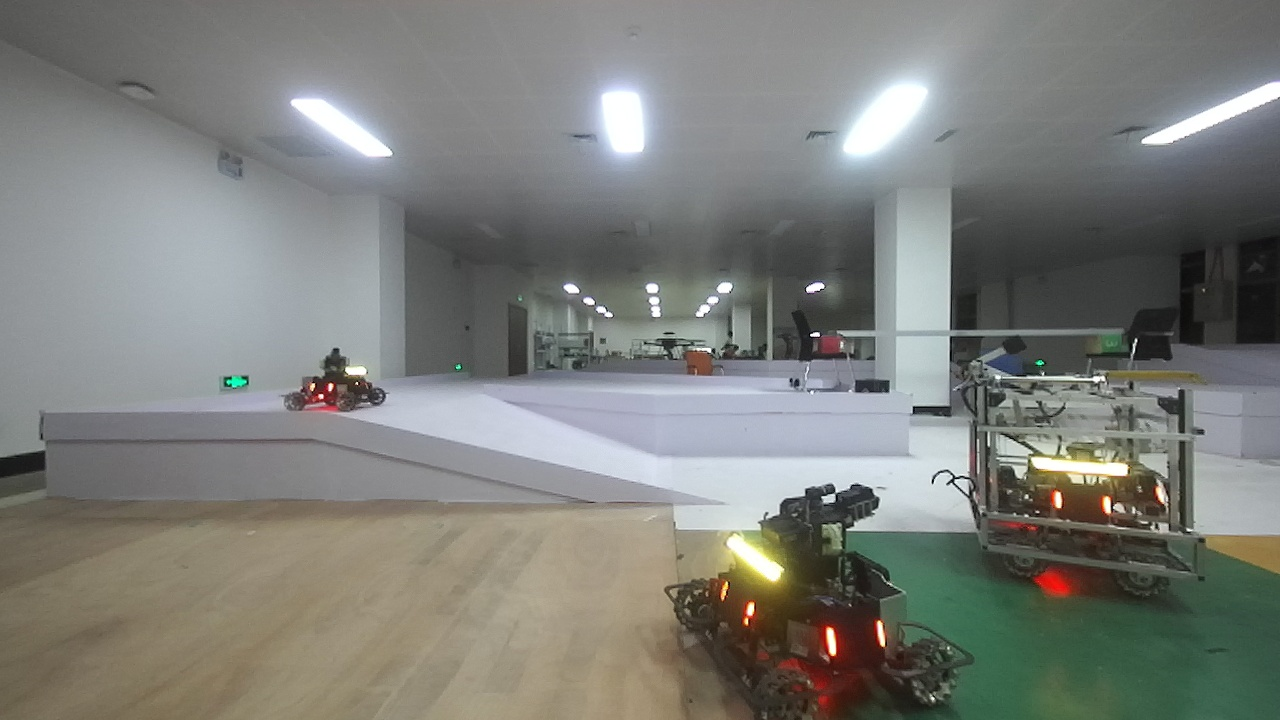car: (658, 483, 970, 720), (955, 354, 1208, 606), (273, 336, 411, 433)
